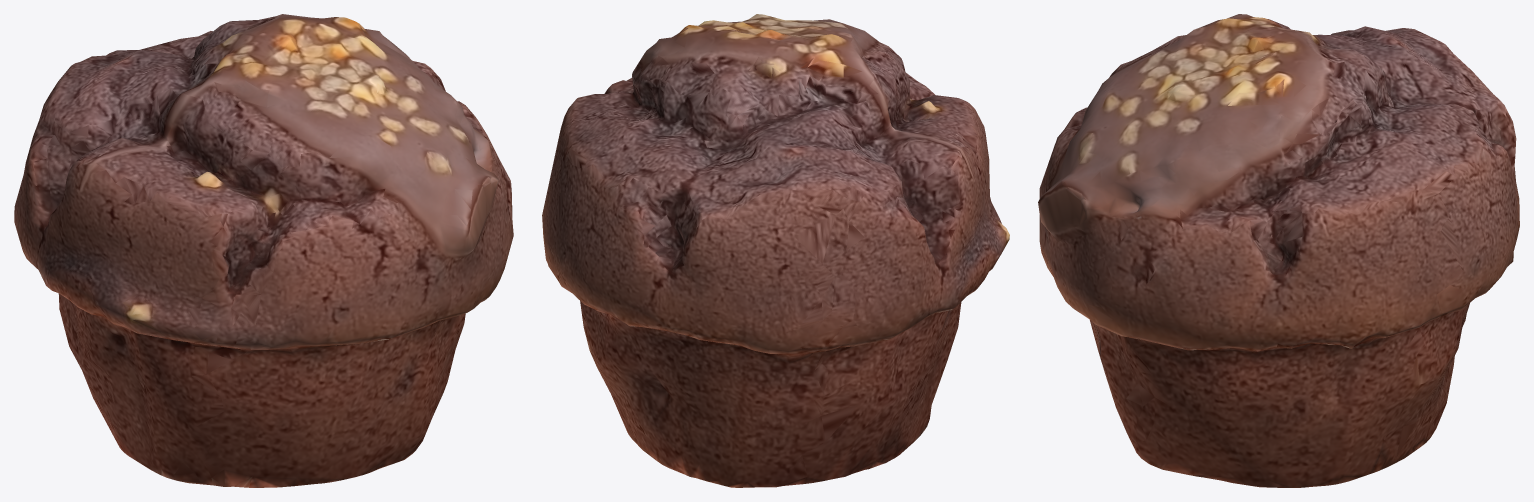
The model's file is muffin_3724.obj.
3 views of the same model, side by side, from view 1: azimuth 30°, elevation 25°; view 2: azimuth 150°, elevation 25°; view 3: azimuth 270°, elevation 25° (orthographic). The views are drawn at different scales.
Size of the model in its own units: 14.22 by 12.98 by 14.4.
1 material, 1 textured.
